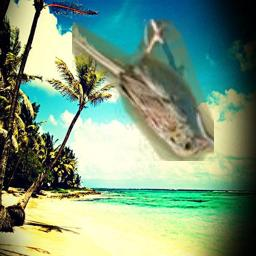Sparrow: (72, 19, 214, 161)
